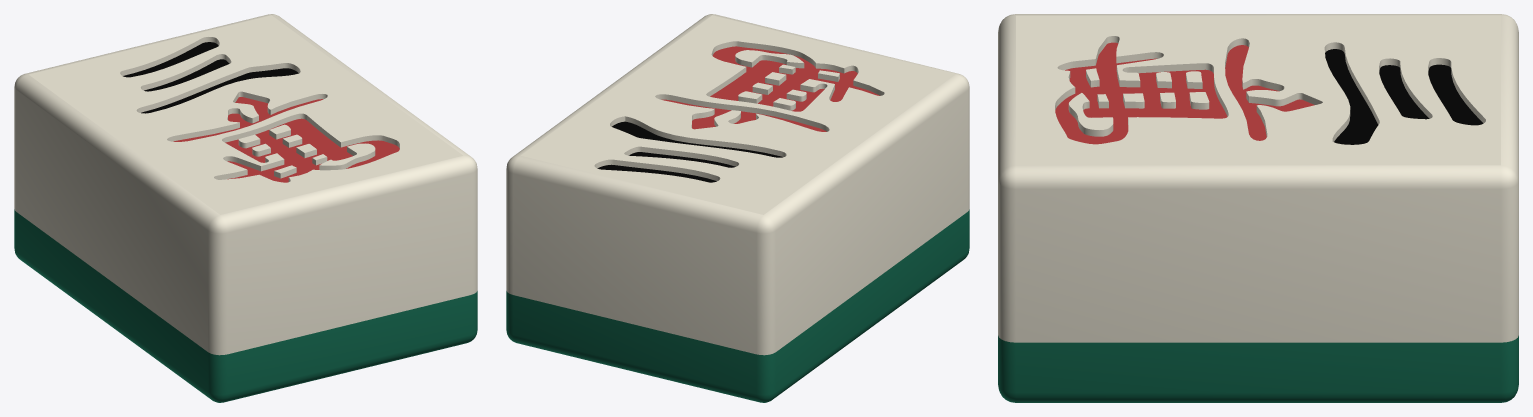
File: Man3.glb
3 renders of one model, left to right at view 1: azimuth 30°, elevation 25°; view 2: azimuth 150°, elevation 25°; view 3: azimuth 270°, elevation 25°, orthographic. The views are drawn at different scales.
Visible parts, largest first — view 1: Man3_body, Man3_inset; view 2: Man3_body, Man3_inset; view 3: Man3_body, Man3_inset.
Boxes of the visible parts, box(x1,y1,x2,y2) form: Man3_body: box(14, 14, 477, 402); Man3_inset: box(123, 42, 399, 182); Man3_body: box(506, 14, 969, 402); Man3_inset: box(597, 46, 879, 182); Man3_body: box(998, 14, 1518, 402); Man3_inset: box(1055, 42, 1483, 144).
Bounding box in the file's own units: 0.024 × 0.016 × 0.032.
